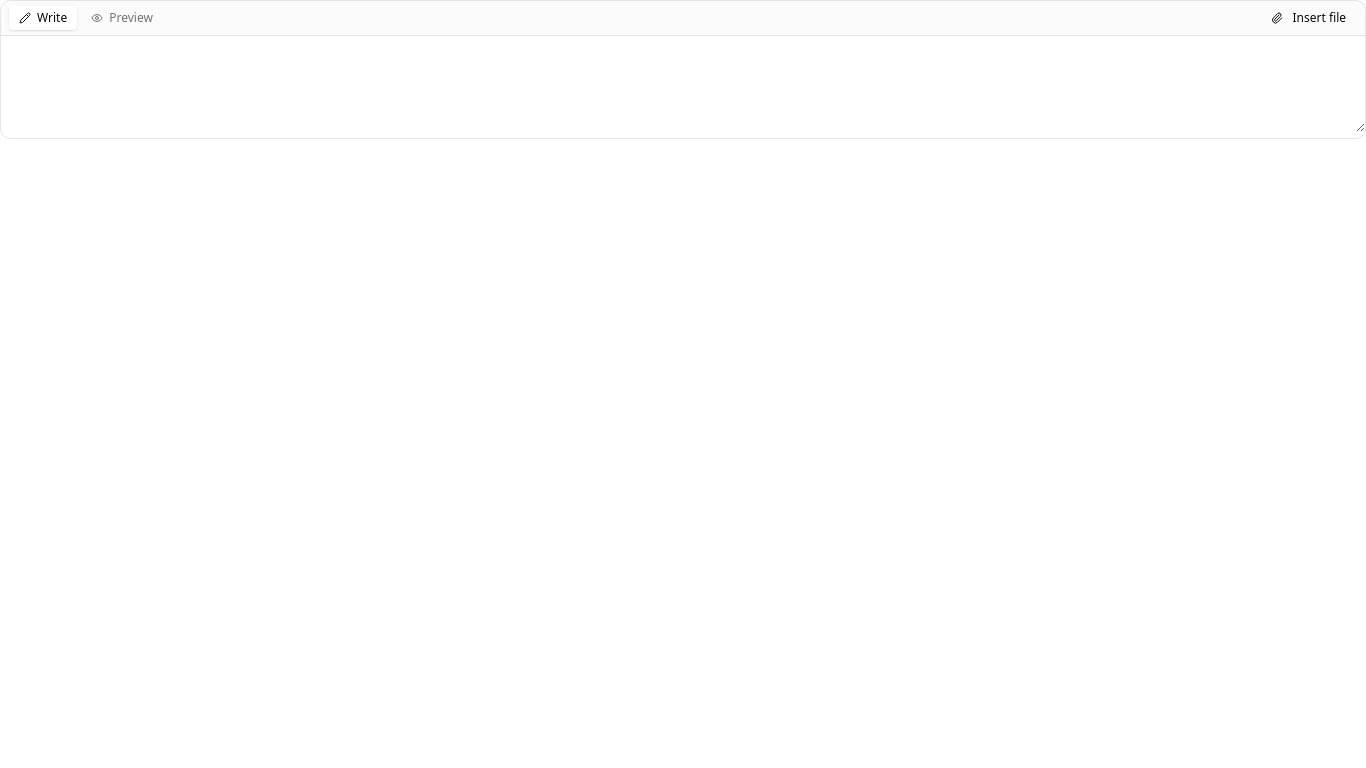
Test: warns before publishing a private file it inserts
What coordinates should you click on to do the following:
click the button "Insert file"
I would click on:
 (1308, 18)
Its box is [1260,5,1357,31].
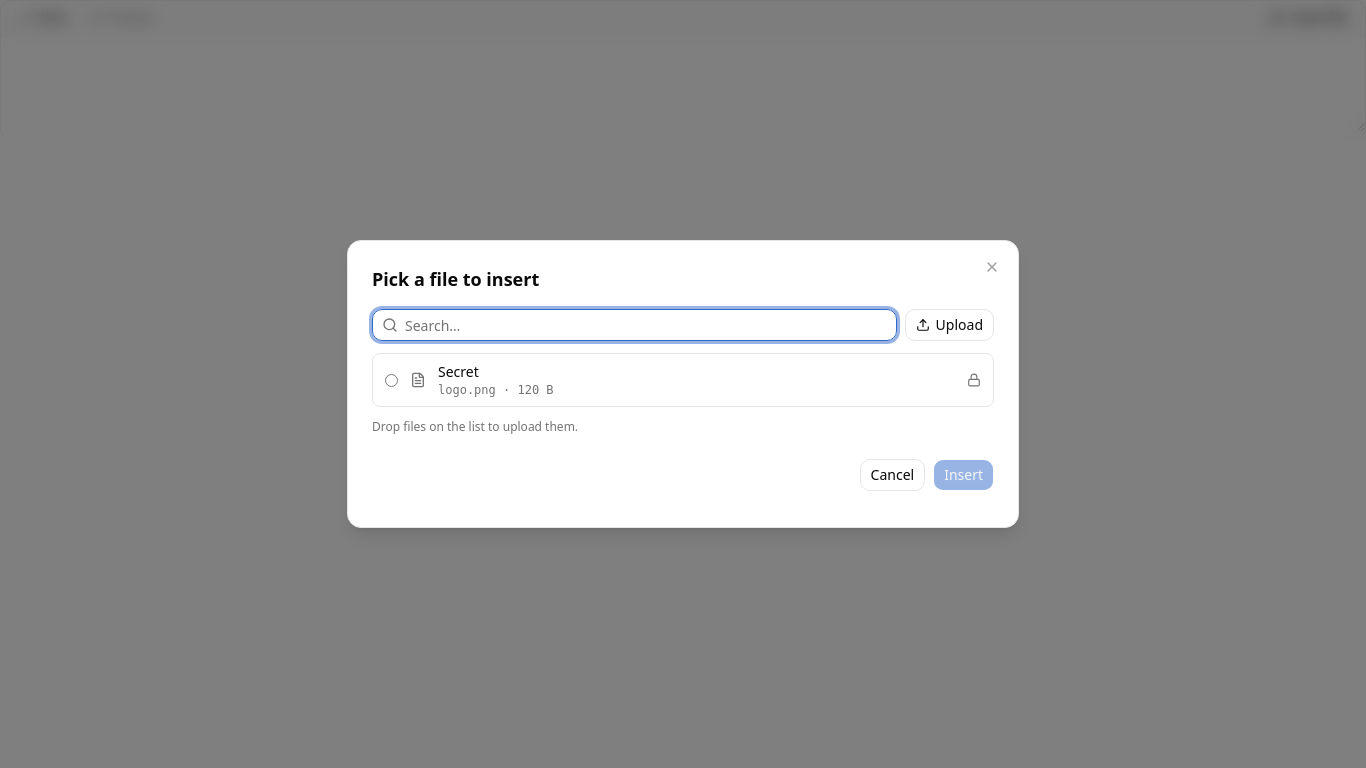
What coordinates should you click on to do the following:
click the radio button labelled "Secret"
I would click on:
 (392, 380)
Its box is [385,374,398,386].
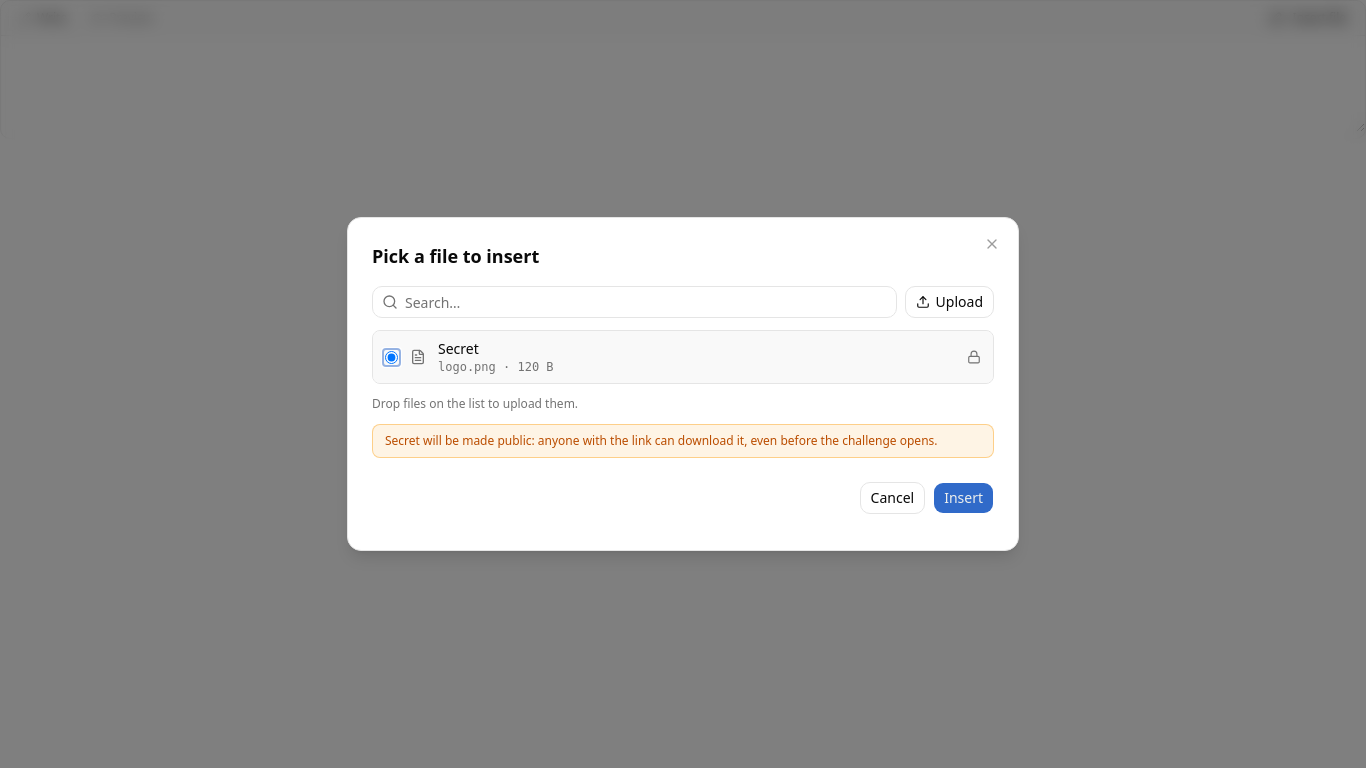
expect the text "Secret will be made public" is shown: met, box [385,432,938,449]
What coordinates should you click on to do the following:
click the button "Insert"
I would click on:
 (964, 498)
Its box is [933,482,994,514].
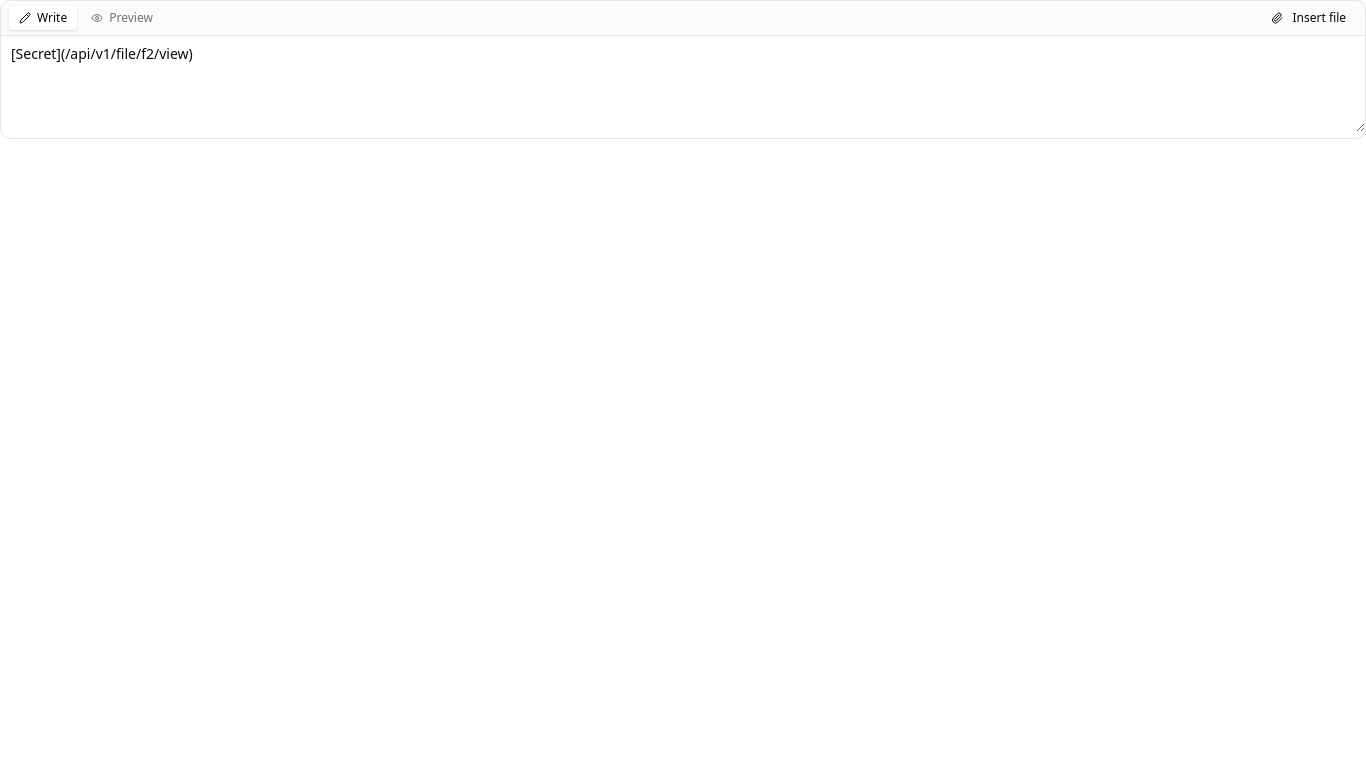
expect the text box holds "[Secret](/api/v1/file/f2/view)": met, box [1,36,1365,132]
